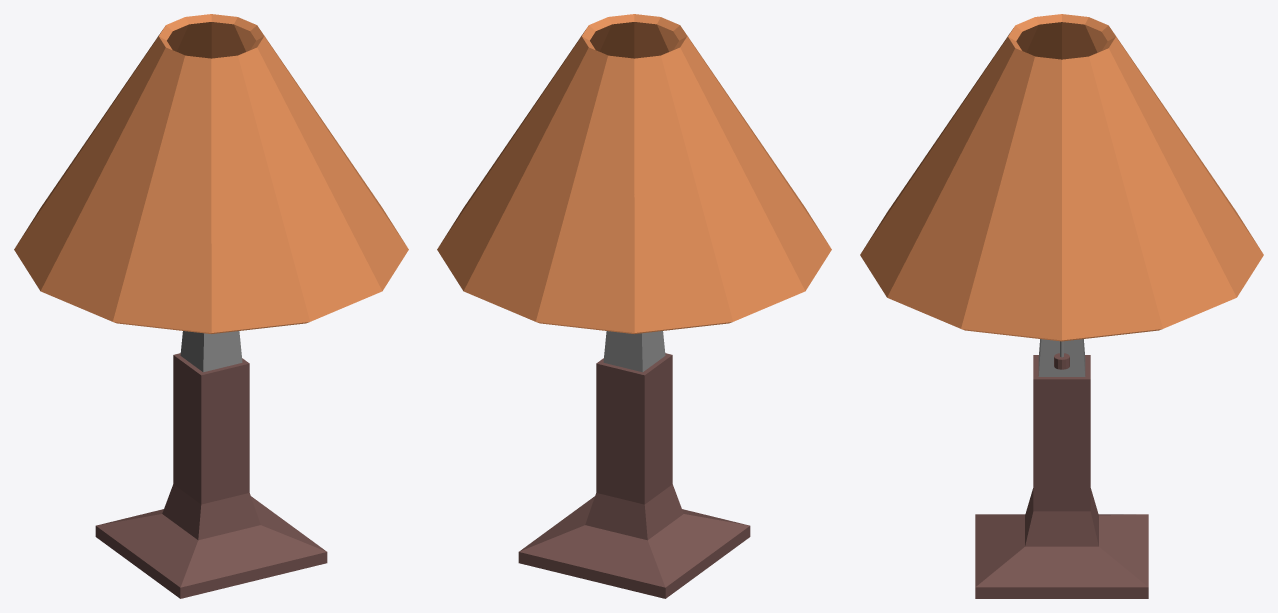
The model's file is lamp.fbx.
3 views of the same model, side by side, from view 1: azimuth 30°, elevation 25°; view 2: azimuth 150°, elevation 25°; view 3: azimuth 270°, elevation 25° (orthographic). The views are drawn at different scales.
Parts seen in each view (by area): view 1: Lamp_02; view 2: Lamp_02; view 3: Lamp_02.
Boxes of the visible parts, left/top/right/bottom form: Lamp_02: left=14, top=14, right=408, bottom=598; Lamp_02: left=437, top=14, right=831, bottom=598; Lamp_02: left=860, top=14, right=1263, bottom=598.
Bounding box in the file's own units: 68.22 × 97.93 × 68.22.
